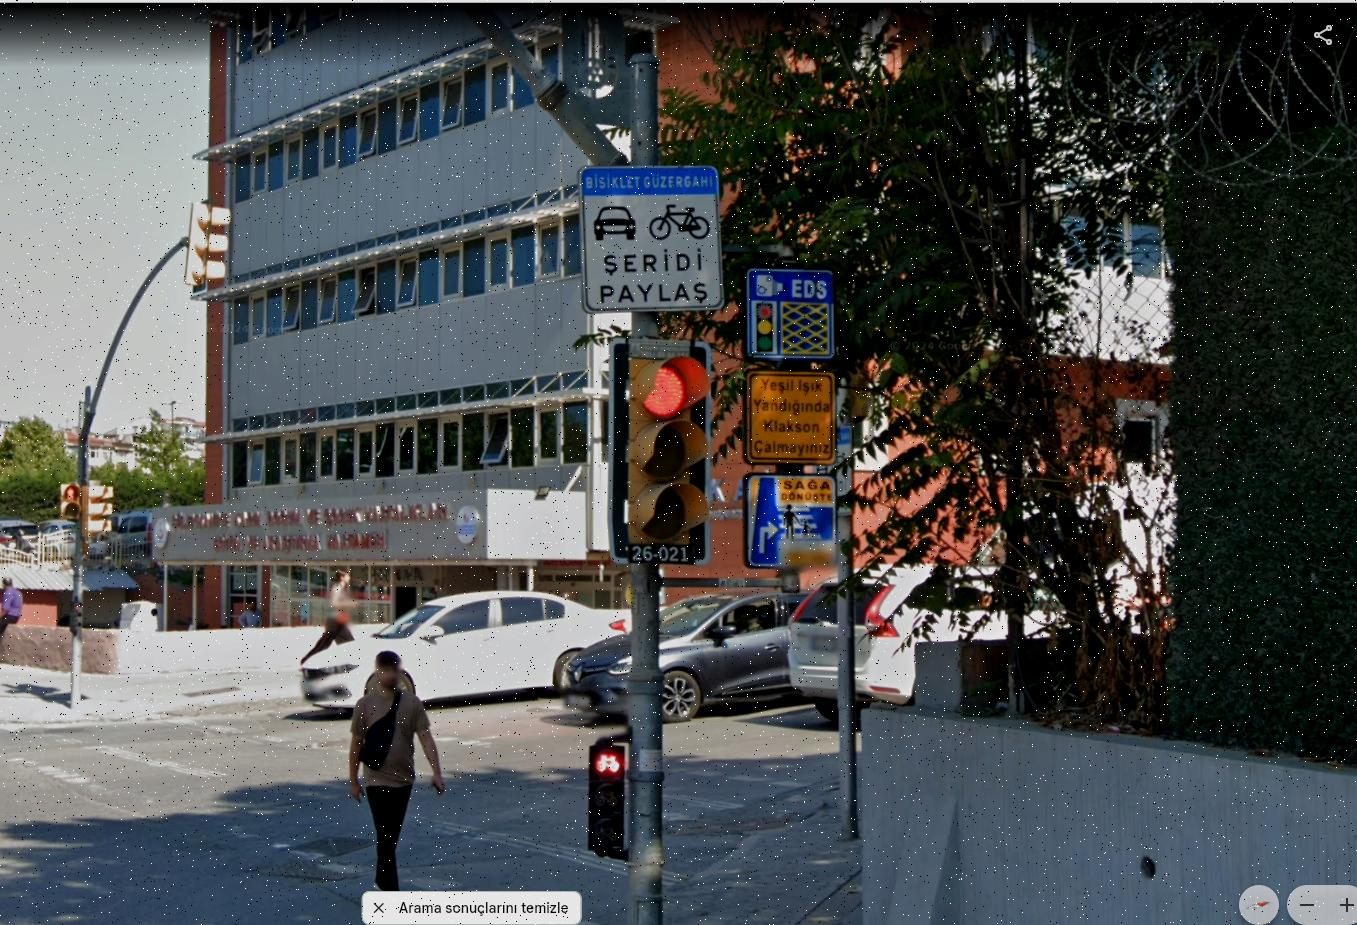redlight: (612, 337, 712, 556)
